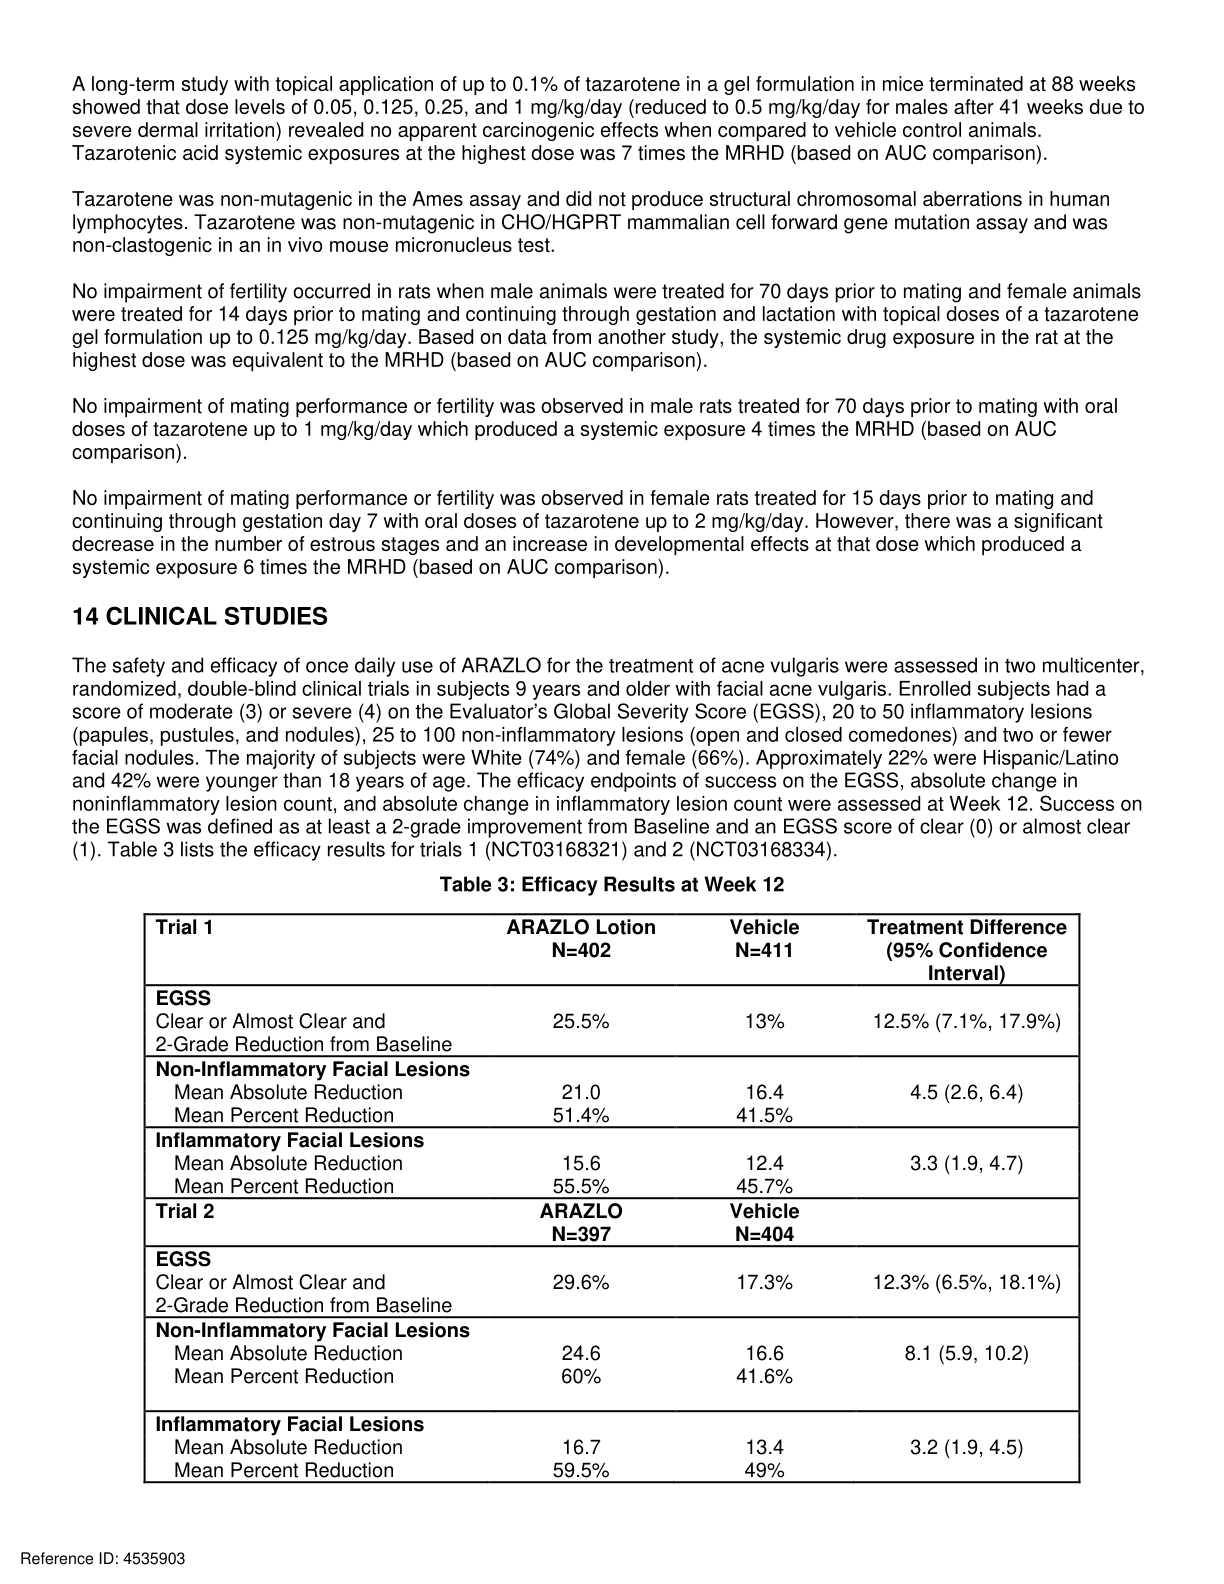merged_cells: (141, 910, 1085, 1488)
